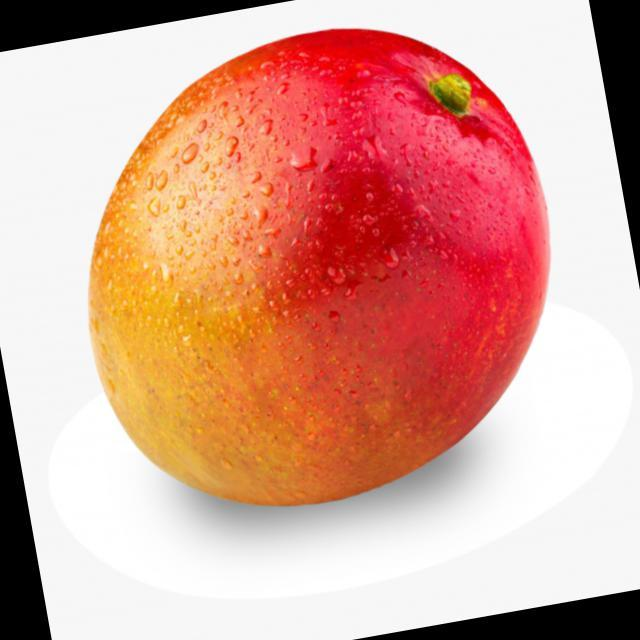mango: (89, 29, 550, 506)
